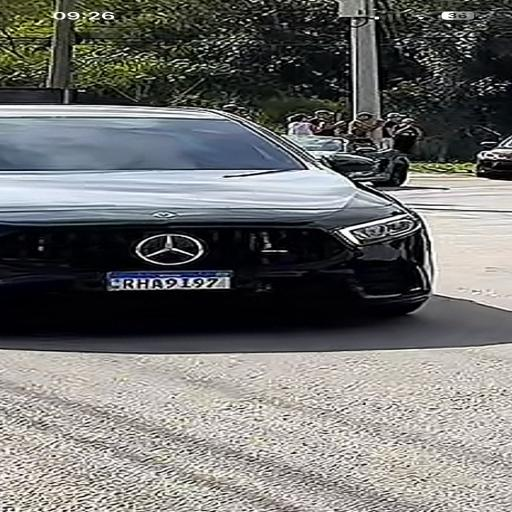detec-o-placas: (56, 254, 284, 313)
